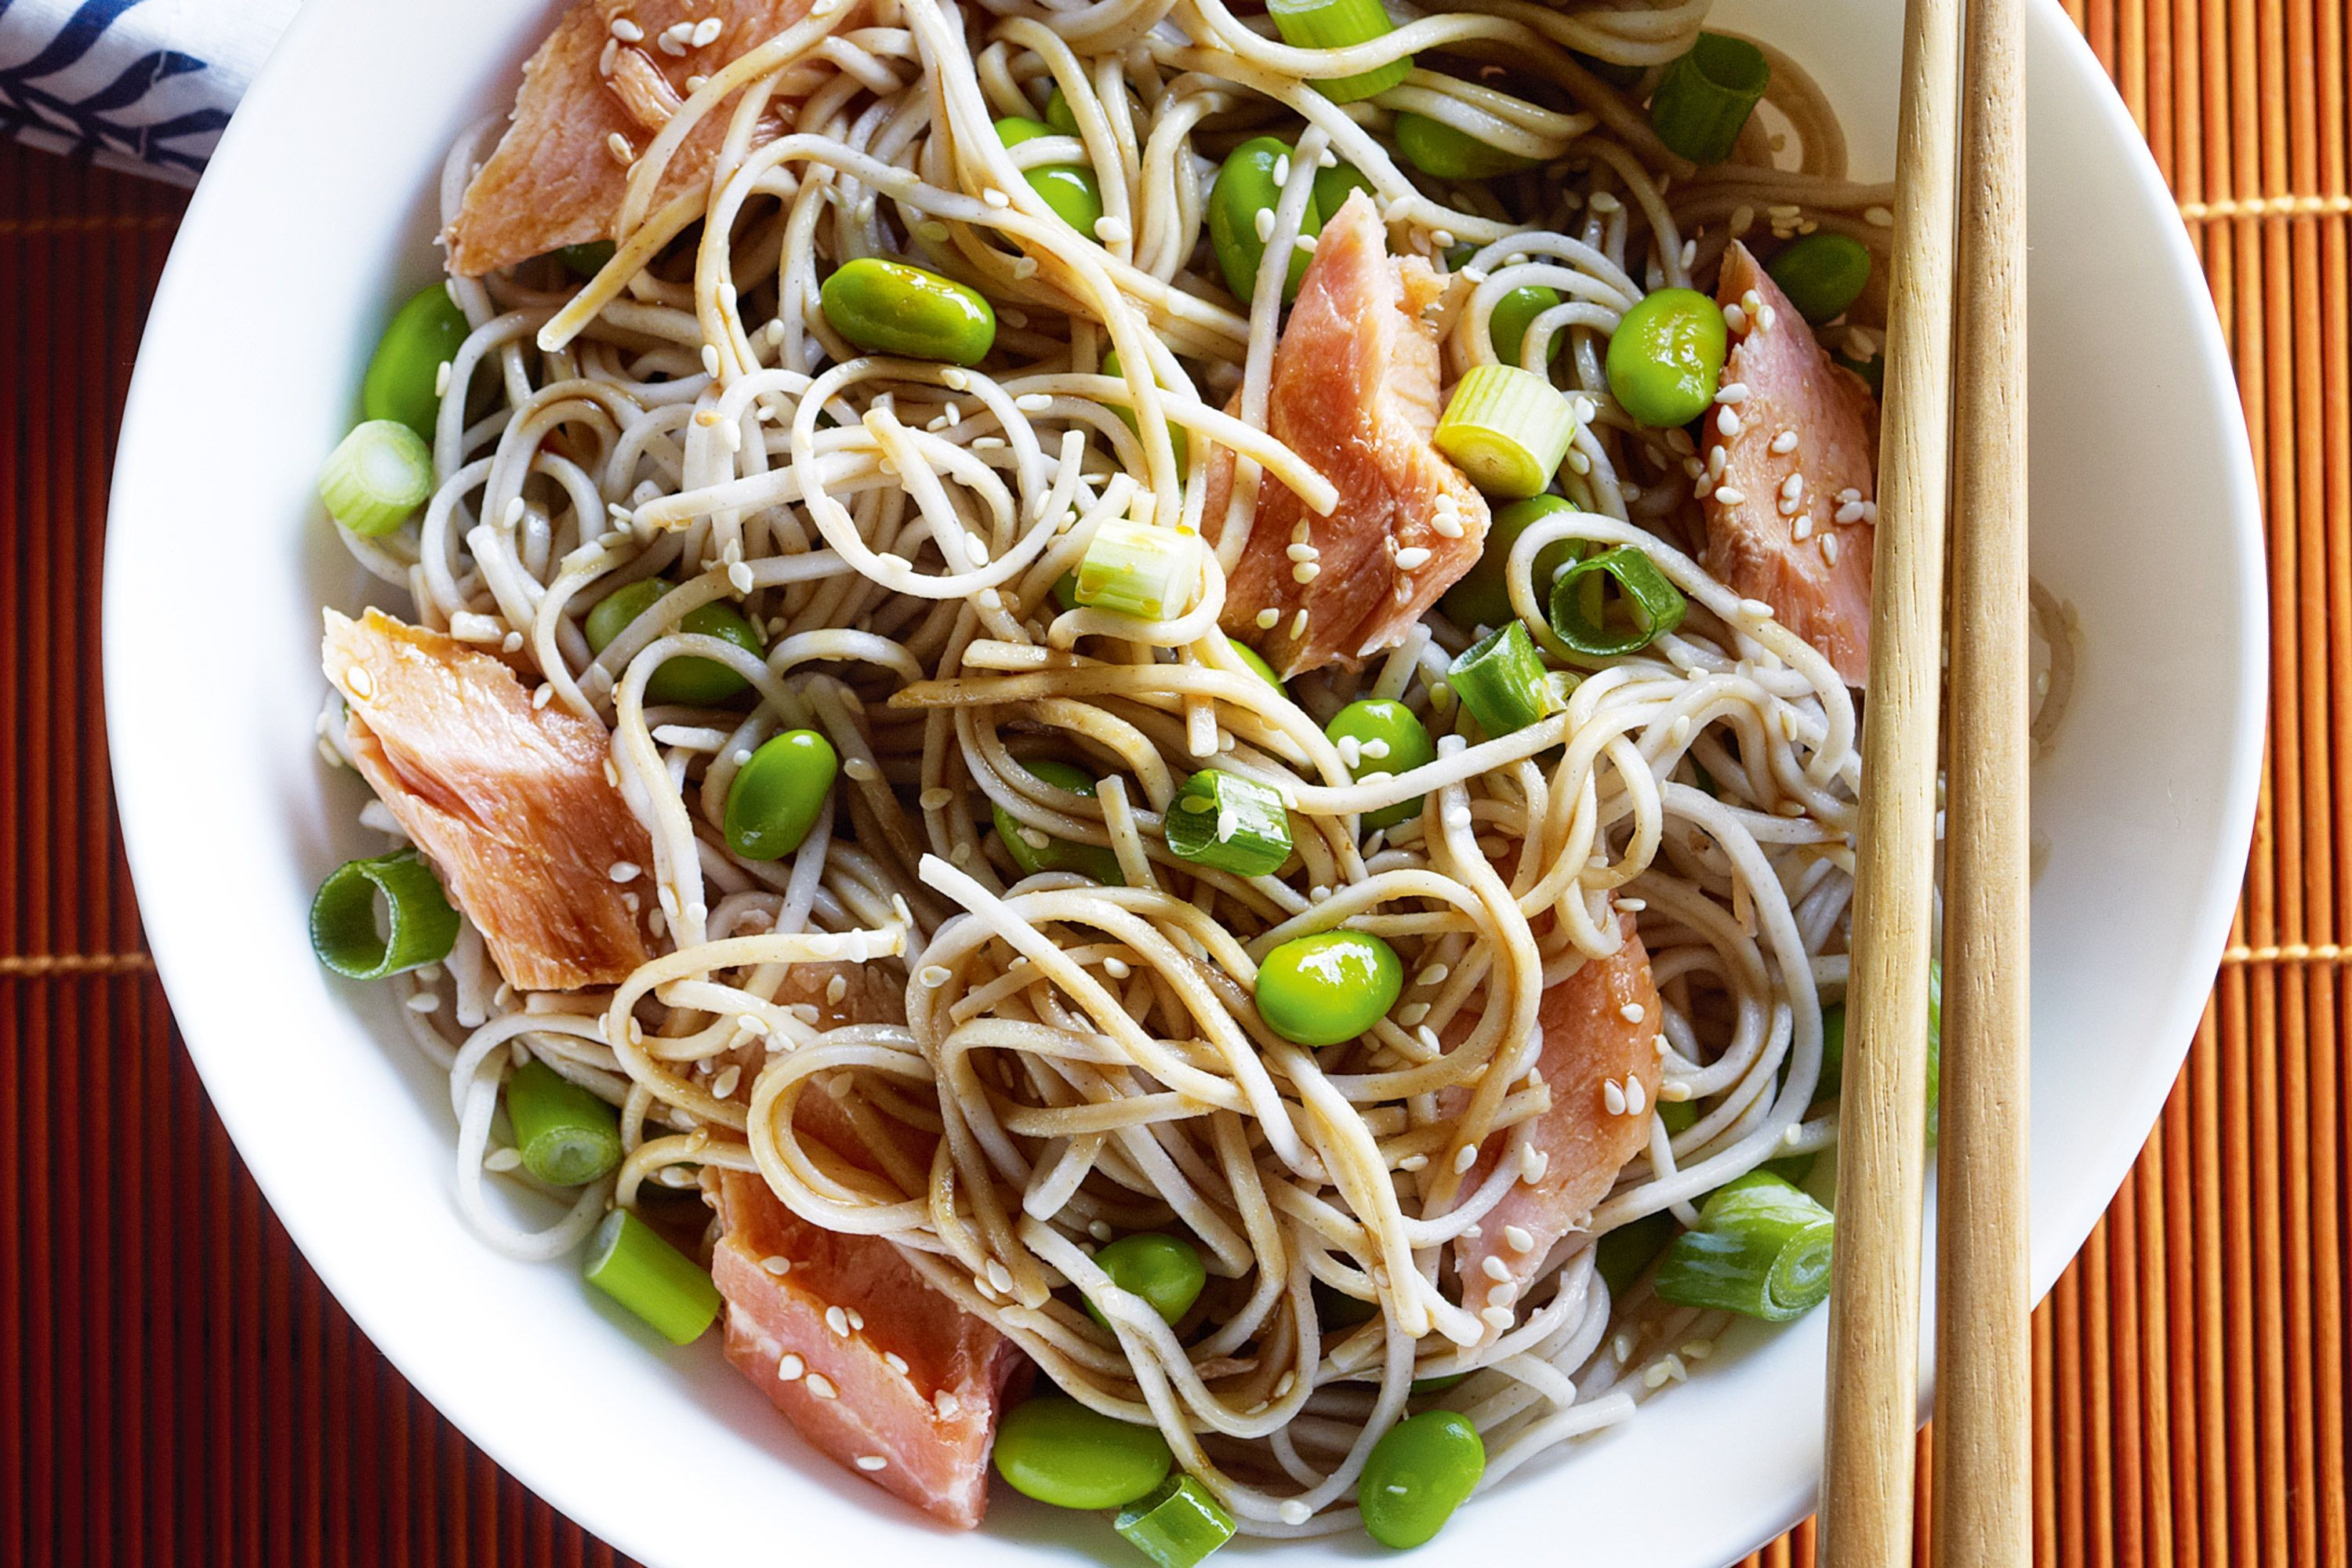Soba: (315, 32, 1825, 1516)
